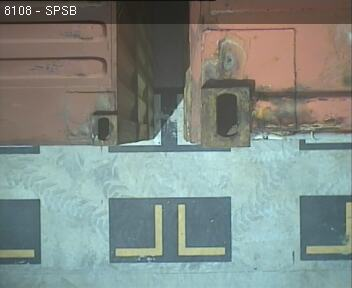groundmarker_1: (114, 204, 225, 257)
